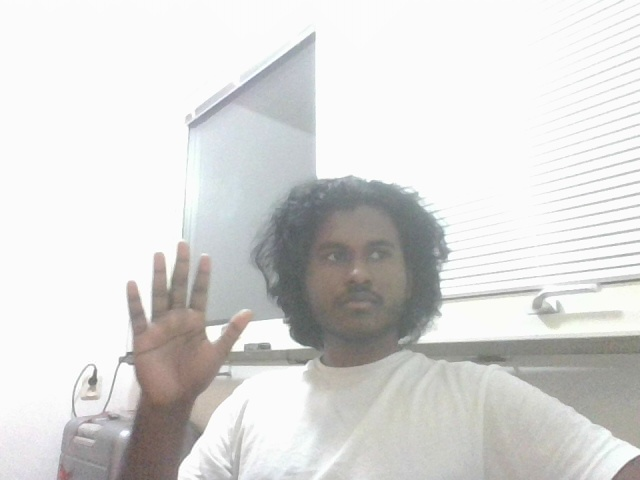hello: (126, 241, 255, 402)
